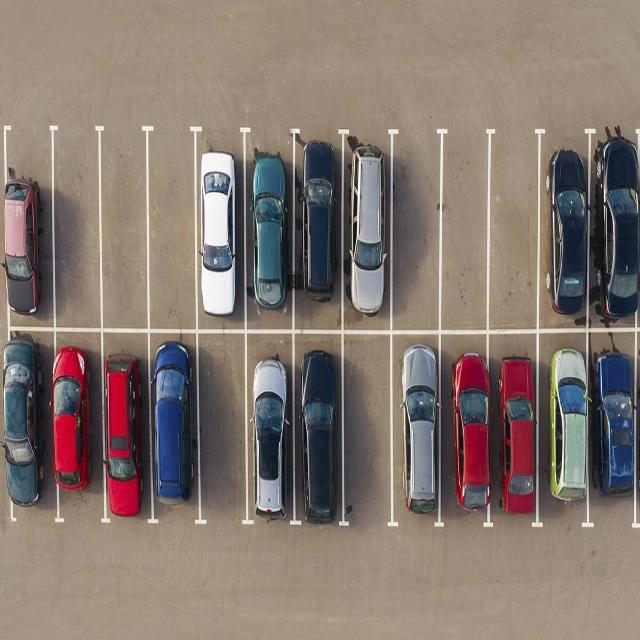space-empty: (50, 125, 103, 325), (388, 135, 442, 331), (487, 134, 541, 327), (99, 125, 150, 327), (146, 128, 197, 328), (439, 133, 490, 328), (196, 331, 247, 519), (342, 334, 392, 525)
space-occupied: (537, 330, 591, 526), (536, 136, 591, 325), (488, 331, 541, 527), (2, 125, 53, 328), (439, 333, 492, 526), (193, 130, 244, 328), (588, 330, 639, 528), (0, 330, 55, 509), (293, 132, 342, 328), (148, 329, 198, 518), (342, 137, 391, 329), (244, 137, 293, 329), (52, 330, 103, 514), (294, 333, 344, 520), (100, 330, 150, 517), (590, 136, 640, 322), (391, 337, 440, 525), (245, 331, 293, 516)
